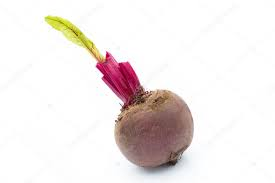beet: (46, 16, 194, 167)
